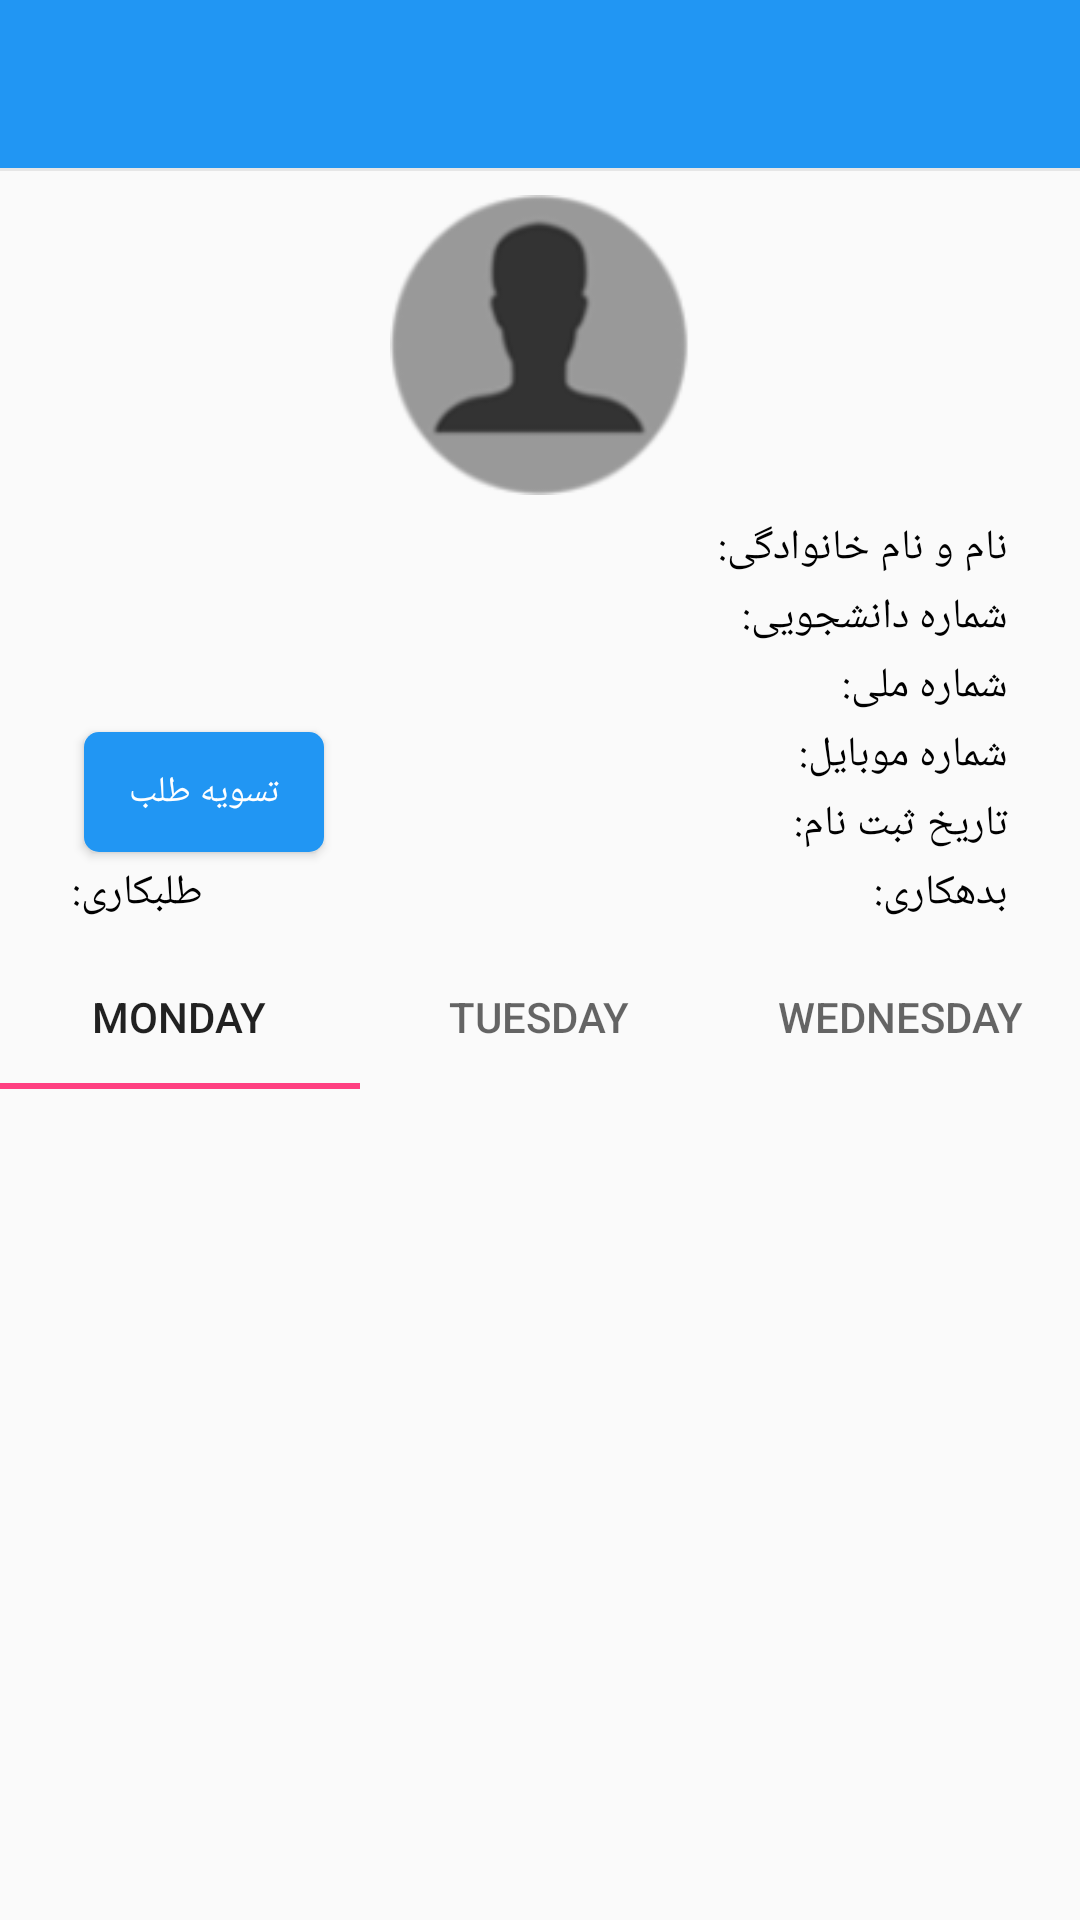

Where to tap for icons on this 1080 × 1920 app screen, as (x=x, y=y):
personnoimage: (x=539, y=345)
